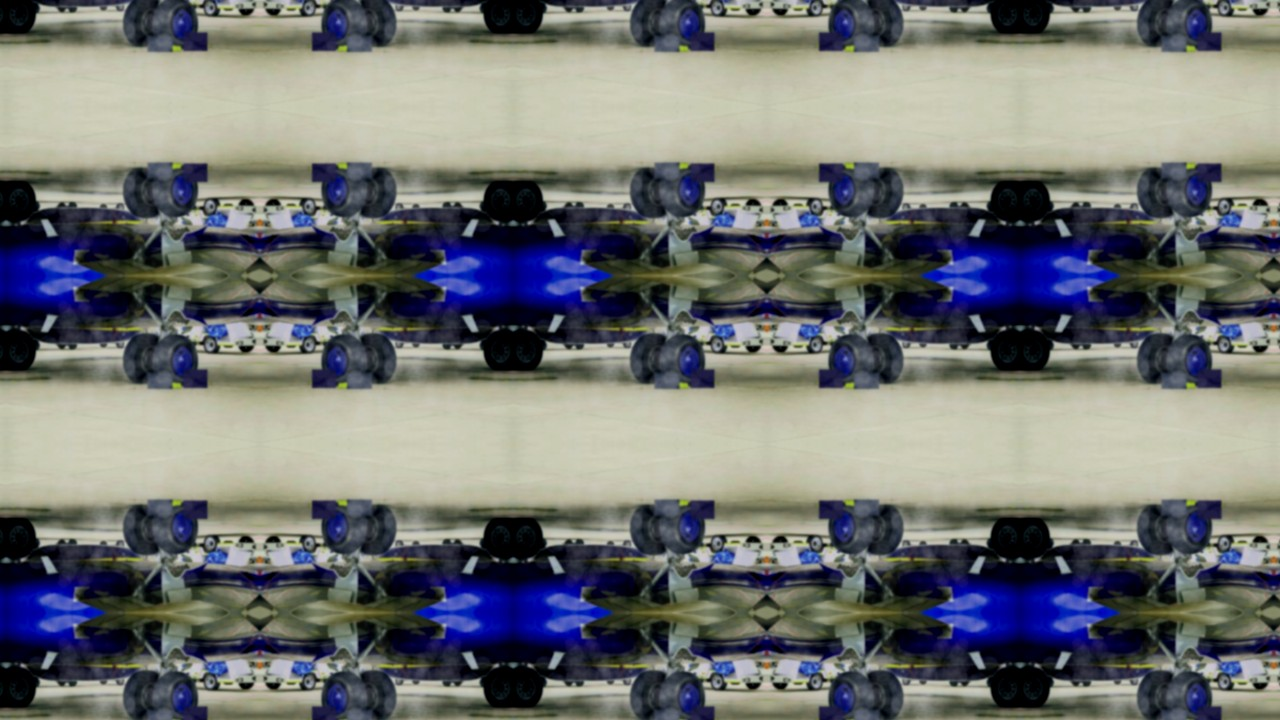chock: (144, 43, 181, 50), (337, 43, 374, 50), (652, 43, 689, 50), (845, 43, 882, 50), (1160, 43, 1197, 50), (144, 163, 181, 170), (337, 163, 374, 170), (652, 163, 689, 170), (845, 163, 882, 170), (1160, 163, 1197, 170), (144, 381, 181, 388), (337, 381, 374, 388), (652, 381, 689, 388), (845, 381, 882, 388), (1160, 381, 1197, 388), (144, 501, 181, 508), (337, 501, 374, 508), (652, 501, 689, 508), (845, 501, 882, 508), (1160, 501, 1197, 508), (177, 41, 209, 47), (309, 41, 341, 47), (685, 41, 717, 47), (817, 41, 849, 47), (1193, 41, 1225, 47), (177, 166, 209, 172), (309, 166, 341, 172), (685, 166, 717, 172), (817, 166, 849, 172), (1193, 166, 1225, 172), (177, 379, 209, 385), (309, 379, 341, 385), (685, 379, 717, 385), (817, 379, 849, 385), (1193, 379, 1225, 385), (177, 504, 209, 510), (309, 504, 341, 510), (685, 504, 717, 510), (817, 504, 849, 510), (1193, 504, 1225, 510), (177, 717, 209, 720), (309, 717, 341, 720), (685, 717, 717, 720), (817, 717, 849, 720), (1193, 717, 1225, 720)
wheel: (152, 167, 198, 218), (320, 167, 366, 218), (660, 167, 706, 218), (828, 167, 874, 218), (1168, 167, 1214, 218), (152, 334, 198, 384), (320, 334, 366, 384), (660, 334, 706, 384), (828, 334, 874, 384), (1168, 334, 1214, 384), (152, 505, 198, 555), (320, 505, 366, 555), (660, 505, 706, 555), (828, 505, 874, 555), (1168, 505, 1214, 555), (152, 671, 198, 720), (320, 671, 366, 720), (660, 671, 706, 720), (828, 671, 874, 720), (1168, 671, 1214, 720), (152, 0, 198, 47), (320, 0, 366, 47), (660, 0, 706, 47), (828, 0, 874, 47), (1168, 0, 1214, 47), (122, 506, 161, 556), (630, 506, 669, 556), (1138, 506, 1177, 556), (122, 169, 161, 218), (630, 169, 669, 218), (1138, 169, 1177, 218), (122, 333, 161, 382), (630, 333, 669, 382), (1138, 333, 1177, 382), (122, 671, 161, 720), (630, 671, 669, 720), (1138, 671, 1177, 720), (358, 506, 396, 556), (866, 506, 904, 556), (358, 169, 396, 218), (866, 169, 904, 218), (358, 333, 396, 382), (866, 333, 904, 382), (358, 671, 396, 720), (866, 671, 904, 720), (122, 0, 161, 45), (630, 0, 669, 45), (1138, 0, 1177, 45), (358, 0, 396, 45), (866, 0, 904, 45), (482, 181, 513, 221), (990, 181, 1021, 221), (482, 330, 513, 370), (990, 330, 1021, 370), (482, 519, 513, 559), (990, 519, 1021, 559), (482, 668, 513, 708), (990, 668, 1021, 708), (5, 181, 35, 221), (513, 181, 543, 221), (1021, 181, 1051, 221), (5, 330, 35, 370), (513, 330, 543, 370), (1021, 330, 1051, 370), (5, 519, 35, 559), (513, 519, 543, 559), (1021, 519, 1051, 559), (5, 668, 35, 708), (513, 668, 543, 708), (1021, 668, 1051, 708), (482, 0, 513, 32), (990, 0, 1021, 32), (5, 0, 35, 32), (513, 0, 543, 32), (1021, 0, 1051, 32), (203, 197, 220, 215), (299, 197, 316, 215), (711, 197, 728, 215), (807, 197, 824, 215), (1219, 197, 1236, 215), (203, 674, 220, 692), (299, 674, 316, 692), (711, 674, 728, 692), (807, 674, 824, 692), (1219, 674, 1236, 692), (203, 336, 220, 353), (299, 336, 316, 353), (711, 336, 728, 353), (807, 336, 824, 353), (1219, 336, 1236, 353), (203, 536, 220, 553), (299, 536, 316, 553), (711, 536, 728, 553), (807, 536, 824, 553), (1219, 536, 1236, 553), (203, 0, 220, 16), (299, 0, 316, 16), (711, 0, 728, 16), (807, 0, 824, 16), (1219, 0, 1236, 16), (0, 181, 5, 221), (0, 330, 5, 370), (0, 519, 5, 559), (0, 668, 5, 708), (0, 0, 5, 32), (264, 7, 280, 14), (772, 7, 788, 14), (264, 199, 280, 206), (772, 199, 788, 206), (264, 345, 280, 352), (772, 345, 788, 352), (264, 683, 280, 690), (772, 683, 788, 690), (238, 7, 253, 14), (746, 7, 761, 14), (1254, 7, 1269, 14), (238, 199, 253, 206), (746, 199, 761, 206), (1254, 199, 1269, 206), (238, 345, 253, 352), (746, 345, 761, 352), (1254, 345, 1269, 352), (238, 683, 253, 690), (746, 683, 761, 690), (1254, 683, 1269, 690), (264, 538, 280, 544), (772, 538, 788, 544), (238, 538, 253, 544), (746, 538, 761, 544), (1254, 538, 1269, 544), (479, 2, 486, 12), (987, 2, 994, 12), (479, 201, 486, 211), (987, 201, 994, 211), (479, 340, 486, 350), (987, 340, 994, 350), (479, 539, 486, 549), (987, 539, 994, 549), (479, 678, 486, 688), (987, 678, 994, 688), (212, 7, 220, 15), (720, 7, 728, 15), (1228, 7, 1236, 15), (212, 345, 220, 353), (720, 345, 728, 353), (1228, 345, 1236, 353), (212, 536, 220, 544), (720, 536, 728, 544), (1228, 536, 1236, 544), (33, 2, 39, 12), (541, 2, 547, 12), (1049, 2, 1055, 12), (33, 201, 39, 211), (541, 201, 547, 211), (1049, 201, 1055, 211), (33, 340, 39, 350), (541, 340, 547, 350), (1049, 340, 1055, 350), (33, 539, 39, 549), (541, 539, 547, 549), (1049, 539, 1055, 549), (33, 678, 39, 688), (541, 678, 547, 688), (1049, 678, 1055, 688), (298, 7, 305, 15), (806, 7, 813, 15), (212, 199, 220, 206), (720, 199, 728, 206), (1228, 199, 1236, 206), (298, 345, 305, 353), (806, 345, 813, 353), (298, 536, 305, 544), (806, 536, 813, 544), (212, 683, 220, 690), (720, 683, 728, 690), (1228, 683, 1236, 690), (298, 199, 305, 206), (806, 199, 813, 206), (298, 683, 305, 690), (806, 683, 813, 690), (115, 4, 123, 10), (394, 4, 402, 10), (623, 4, 631, 10), (902, 4, 910, 10), (1131, 4, 1139, 10), (115, 203, 123, 209), (394, 203, 402, 209), (623, 203, 631, 209), (902, 203, 910, 209), (1131, 203, 1139, 209), (115, 680, 123, 686), (394, 680, 402, 686), (623, 680, 631, 686), (902, 680, 910, 686), (1131, 680, 1139, 686), (442, 6, 451, 11), (950, 6, 959, 11), (56, 202, 65, 207), (442, 202, 451, 207), (453, 202, 462, 207), (564, 202, 573, 207), (950, 202, 959, 207), (961, 202, 970, 207), (1072, 202, 1081, 207), (56, 344, 65, 349), (442, 344, 451, 349), (453, 344, 462, 349), (564, 344, 573, 349), (950, 344, 959, 349), (961, 344, 970, 349), (1072, 344, 1081, 349), (56, 540, 65, 545), (442, 540, 451, 545), (453, 540, 462, 545), (564, 540, 573, 545), (950, 540, 959, 545), (961, 540, 970, 545), (1072, 540, 1081, 545), (442, 682, 451, 687), (950, 682, 959, 687), (68, 6, 76, 11), (576, 6, 584, 11), (1084, 6, 1092, 11), (68, 202, 76, 207), (576, 202, 584, 207), (1084, 202, 1092, 207), (68, 344, 76, 349), (115, 342, 123, 347), (394, 342, 402, 347), (576, 344, 584, 349), (623, 342, 631, 347), (902, 342, 910, 347), (1084, 344, 1092, 349), (1131, 342, 1139, 347), (68, 540, 76, 545), (115, 542, 123, 547), (394, 542, 402, 547), (576, 540, 584, 545), (623, 542, 631, 547), (902, 542, 910, 547), (1084, 540, 1092, 545), (1131, 542, 1139, 547), (68, 682, 76, 687), (576, 682, 584, 687), (1084, 682, 1092, 687), (56, 6, 65, 10), (453, 6, 462, 10), (564, 6, 573, 10), (961, 6, 970, 10), (1072, 6, 1081, 10), (56, 682, 65, 686), (453, 682, 462, 686), (564, 682, 573, 686), (961, 682, 970, 686), (1072, 682, 1081, 686), (223, 345, 233, 348), (731, 345, 741, 348), (1239, 345, 1249, 348), (223, 541, 233, 544), (731, 541, 741, 544), (1239, 541, 1249, 544), (99, 5, 106, 9), (412, 5, 419, 9), (607, 5, 614, 9), (920, 5, 927, 9), (1115, 5, 1122, 9), (99, 204, 106, 208), (412, 204, 419, 208), (607, 204, 614, 208), (920, 204, 927, 208), (1115, 204, 1122, 208), (99, 343, 106, 347), (412, 343, 419, 347), (607, 343, 614, 347), (920, 343, 927, 347), (1115, 343, 1122, 347), (99, 542, 106, 546), (412, 542, 419, 546), (607, 542, 614, 546), (920, 542, 927, 546), (1115, 542, 1122, 546), (99, 681, 106, 685), (412, 681, 419, 685), (607, 681, 614, 685), (920, 681, 927, 685), (1115, 681, 1122, 685), (286, 345, 295, 348), (794, 345, 803, 348), (286, 541, 295, 544), (794, 541, 803, 544), (197, 206, 203, 210), (705, 206, 711, 210), (1213, 206, 1219, 210), (197, 341, 203, 345), (705, 341, 711, 345), (1213, 341, 1219, 345), (223, 7, 233, 9), (731, 7, 741, 9), (1239, 7, 1249, 9), (223, 204, 233, 206), (315, 206, 320, 210), (731, 204, 741, 206), (823, 206, 828, 210), (1239, 204, 1249, 206), (315, 341, 320, 345), (823, 341, 828, 345), (223, 683, 233, 685), (731, 683, 741, 685), (1239, 683, 1249, 685), (197, 3, 203, 6), (286, 7, 295, 9), (705, 3, 711, 6), (794, 7, 803, 9), (1213, 3, 1219, 6), (286, 204, 295, 206), (794, 204, 803, 206), (197, 545, 203, 548), (705, 545, 711, 548), (1213, 545, 1219, 548), (197, 679, 203, 682), (286, 683, 295, 685), (705, 679, 711, 682), (794, 683, 803, 685), (1213, 679, 1219, 682), (315, 3, 320, 6), (823, 3, 828, 6), (315, 545, 320, 548), (823, 545, 828, 548), (315, 679, 320, 682), (823, 679, 828, 682)
